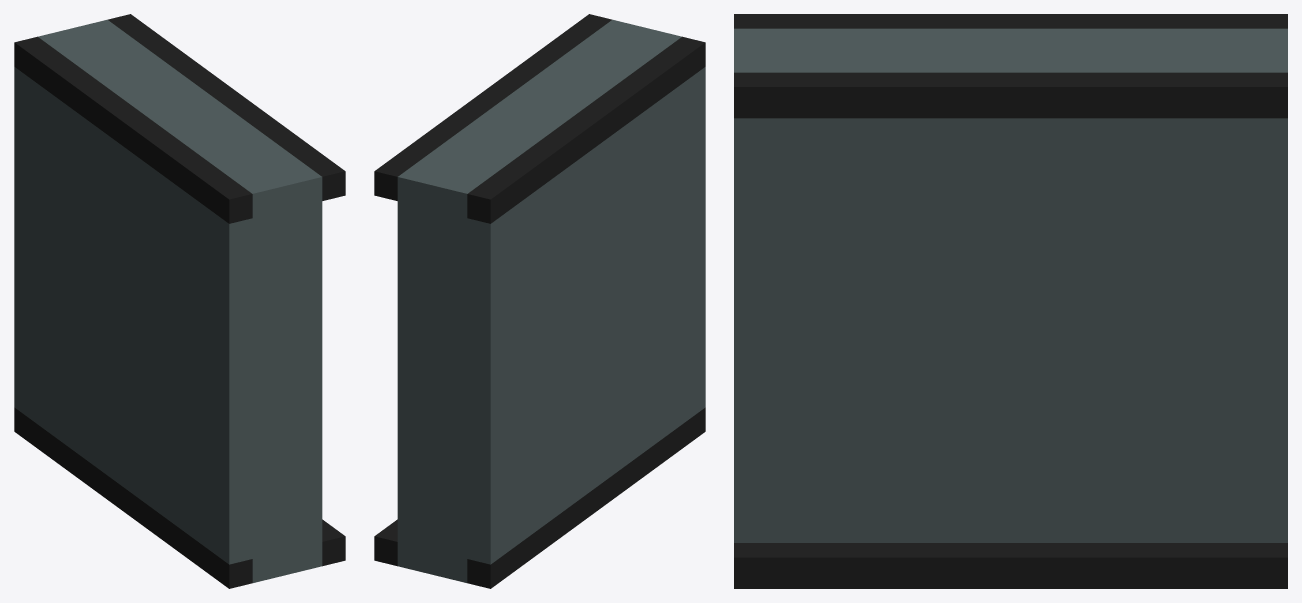
The model's file is BombBoxStrongEdge.obj.
3 views of the same model, side by side, from view 1: azimuth 30°, elevation 25°; view 2: azimuth 150°, elevation 25°; view 3: azimuth 270°, elevation 25° (orthographic). The views are drawn at different scales.
Size of the model in its own units: 0.5 by 1.6 by 1.6.
Materials: 1 (1 with a texture image).
